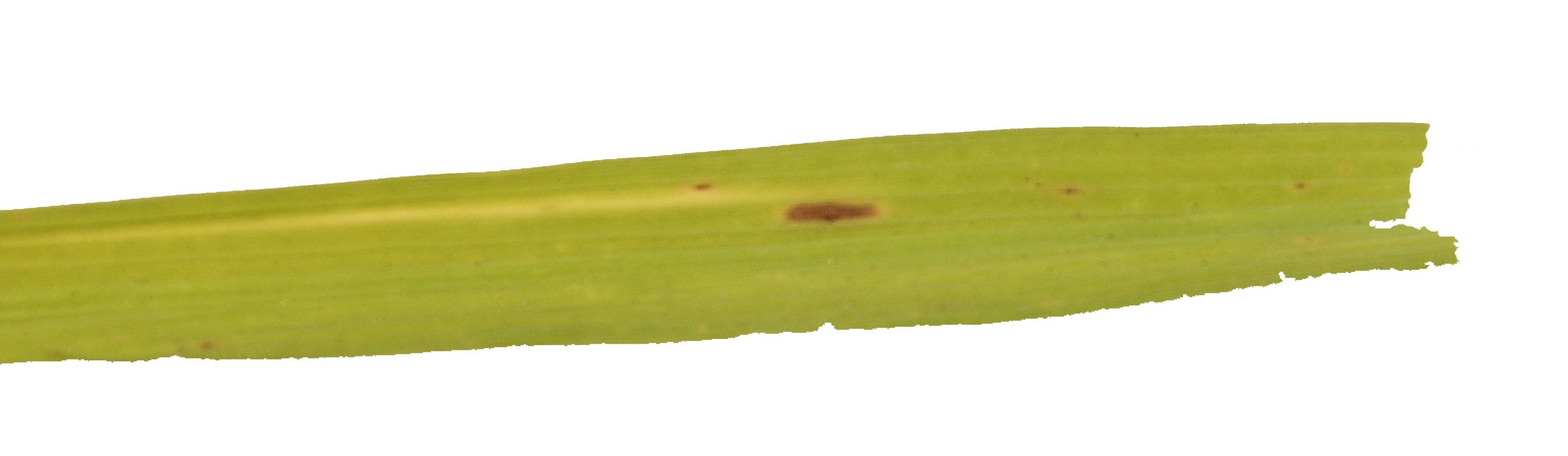Brown spot: (789, 190, 880, 234)
